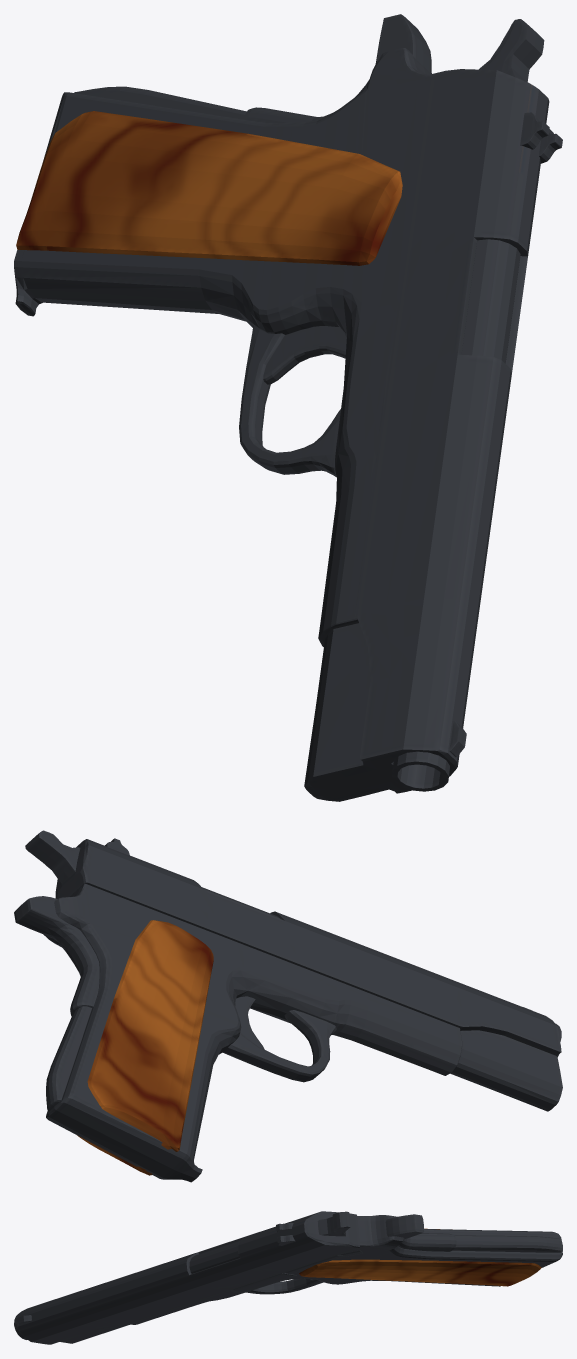
Rendered from mhw_jaldmic_m1911a1.glb.
3 views of the same model, one above another, from view 1: azimuth 30°, elevation 25°; view 2: azimuth 150°, elevation 25°; view 3: azimuth 270°, elevation 25° (orthographic). The views are drawn at different scales.
Parts seen in each view (by area): view 1: mhw_jaldmic_m1911a1; view 2: mhw_jaldmic_m1911a1; view 3: mhw_jaldmic_m1911a1.
Boxes of the visible parts, x1,y1,x2,y2 form: mhw_jaldmic_m1911a1: (14, 14, 562, 801); mhw_jaldmic_m1911a1: (14, 830, 562, 1182); mhw_jaldmic_m1911a1: (14, 1211, 562, 1344).
Size of the model in its own units: 0.149 by 0.1366 by 0.2784.
1 material, 1 textured.
